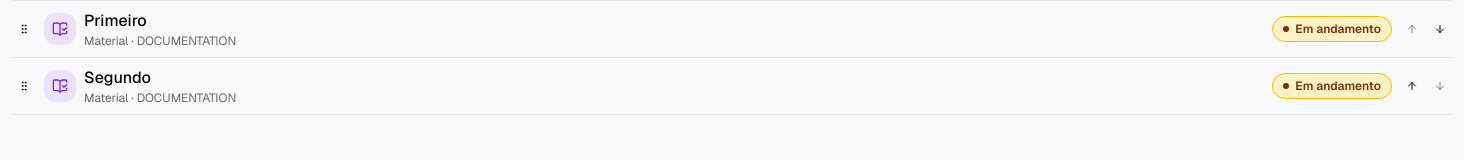
Test: ResourceOrderList › prevents another reorder while an update is pending
What coordinates should you click on to do the following:
click the button named "Mover Primeiro para baixo"
I would click on:
 (1440, 29)
Its box is [1428, 17, 1452, 41].
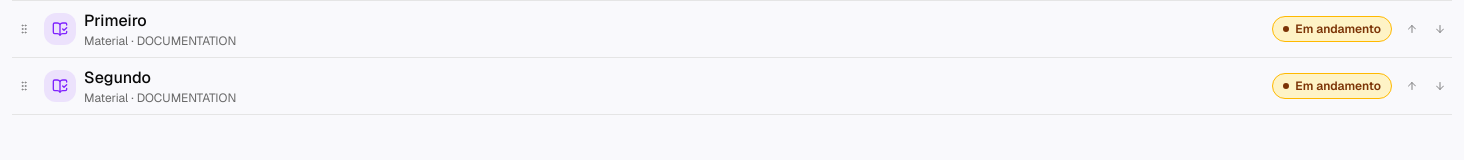
Now the button named "Mover Primeiro para baixo" is disabled, box [1428, 17, 1452, 41]
Now the button named "Arrastar Primeiro" is disabled, box [12, 17, 36, 41]
